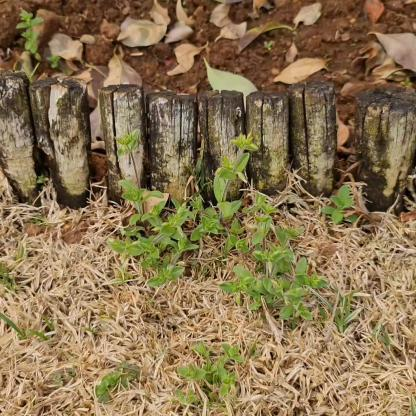Weeds: (108, 127, 325, 325), (170, 340, 242, 414), (321, 186, 360, 221), (95, 363, 128, 403), (17, 10, 42, 58)
